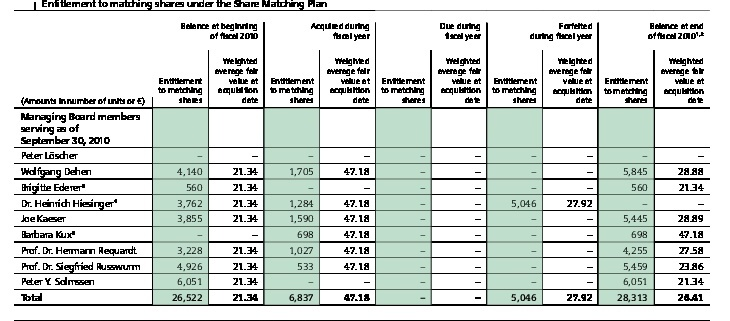table: (0, 0, 730, 321)
